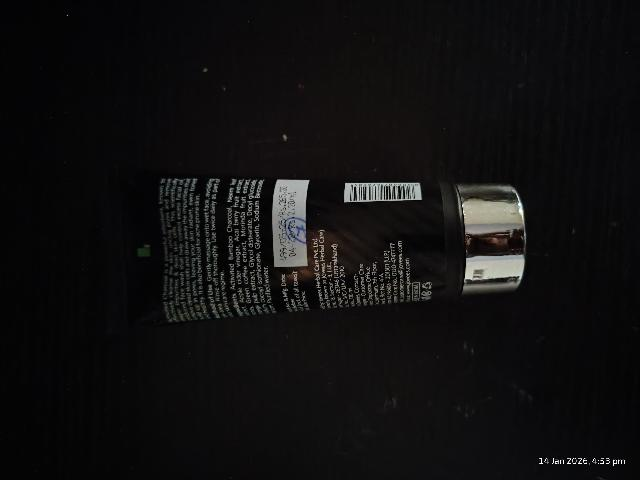jovees herbal: (148, 174, 519, 302)
